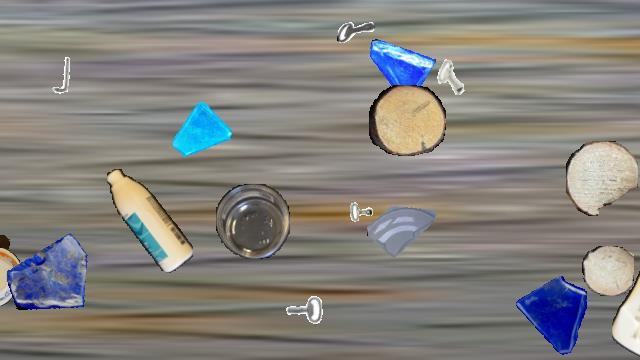glass: (7, 227, 93, 313), (512, 275, 596, 359), (367, 189, 439, 261), (366, 36, 436, 106), (173, 102, 231, 160)
metal: (426, 52, 478, 104), (275, 294, 325, 344), (334, 200, 382, 248), (40, 55, 80, 95), (337, 12, 375, 50)
plastic: (107, 169, 193, 273), (216, 184, 290, 258), (612, 219, 640, 359), (0, 248, 23, 308), (0, 174, 12, 272)
wood: (566, 141, 638, 215), (369, 85, 445, 155), (582, 246, 634, 296)
